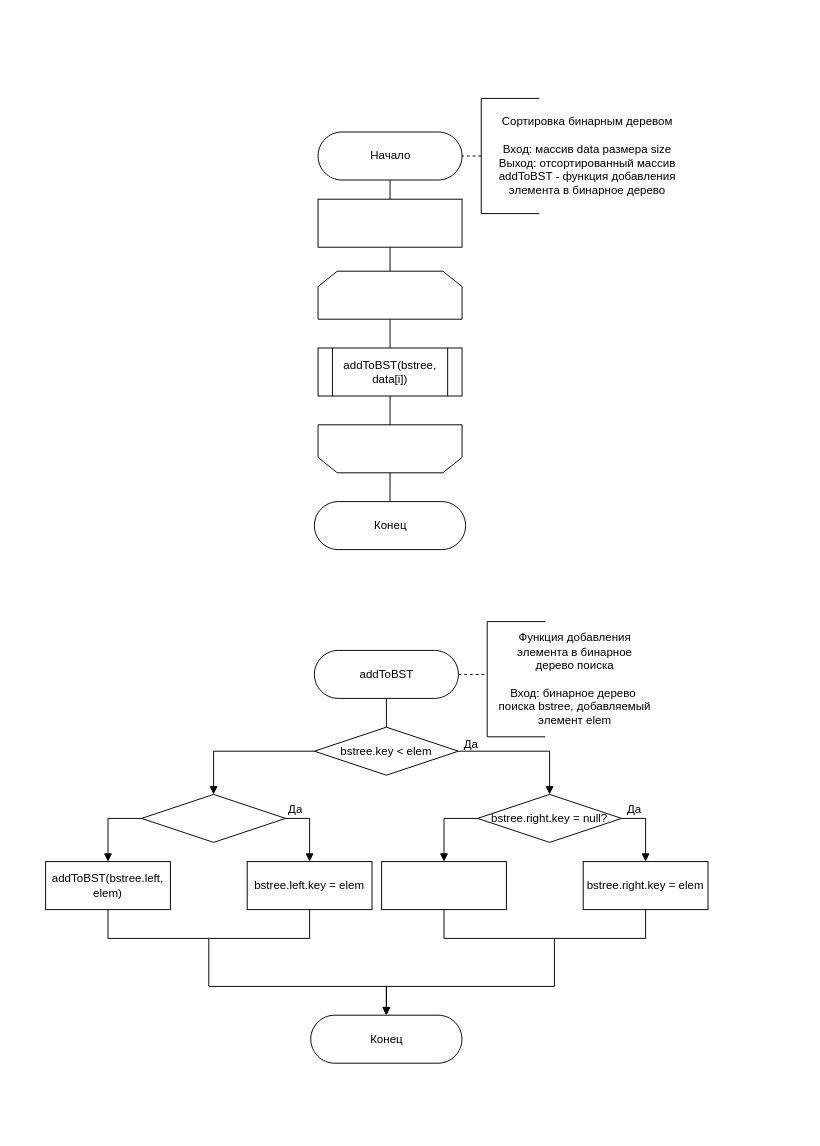
The diagram is 820 pixels wide and 1146 high, and some of its shapes have lost their labels. Each missing label, with the box of its shape:
addToBST(bstree.right, elem): (381, 861, 506, 910)
bstree.left.key = null?: (141, 793, 286, 842)
i += 1: (317, 424, 462, 473)
i = 0, bstree - двоичное дерево поиска: (317, 198, 462, 247)
Пока i < size: (317, 270, 462, 319)
